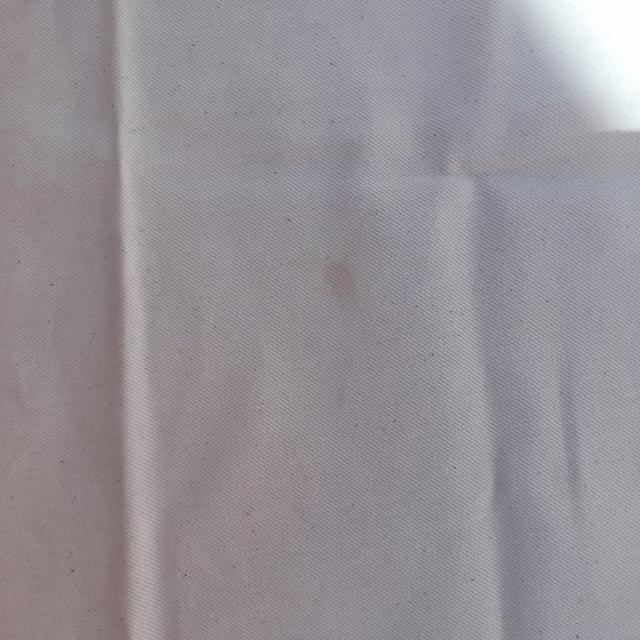taaaches: (310, 243, 362, 317)
